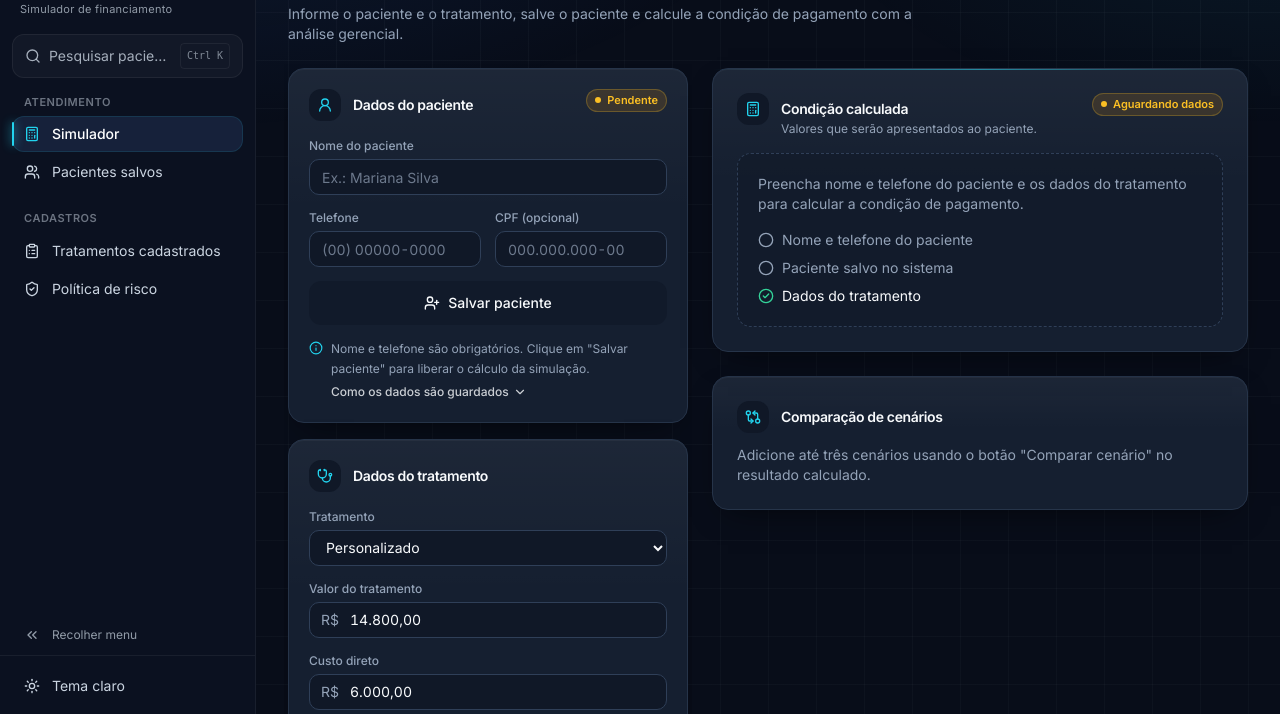
Test: cenário 11 — app sempre em modo gerencial › exibe informações gerenciais (custo direto, resultado, risco) sem precisar de alternância de visão
Check: the field labelled "Custo direto" is shown, box 309,674 -> 667,710
Type "Mariana Silva" into the field labelled "Nome do paciente" at coordinates (488, 177), box 309,159 -> 667,195
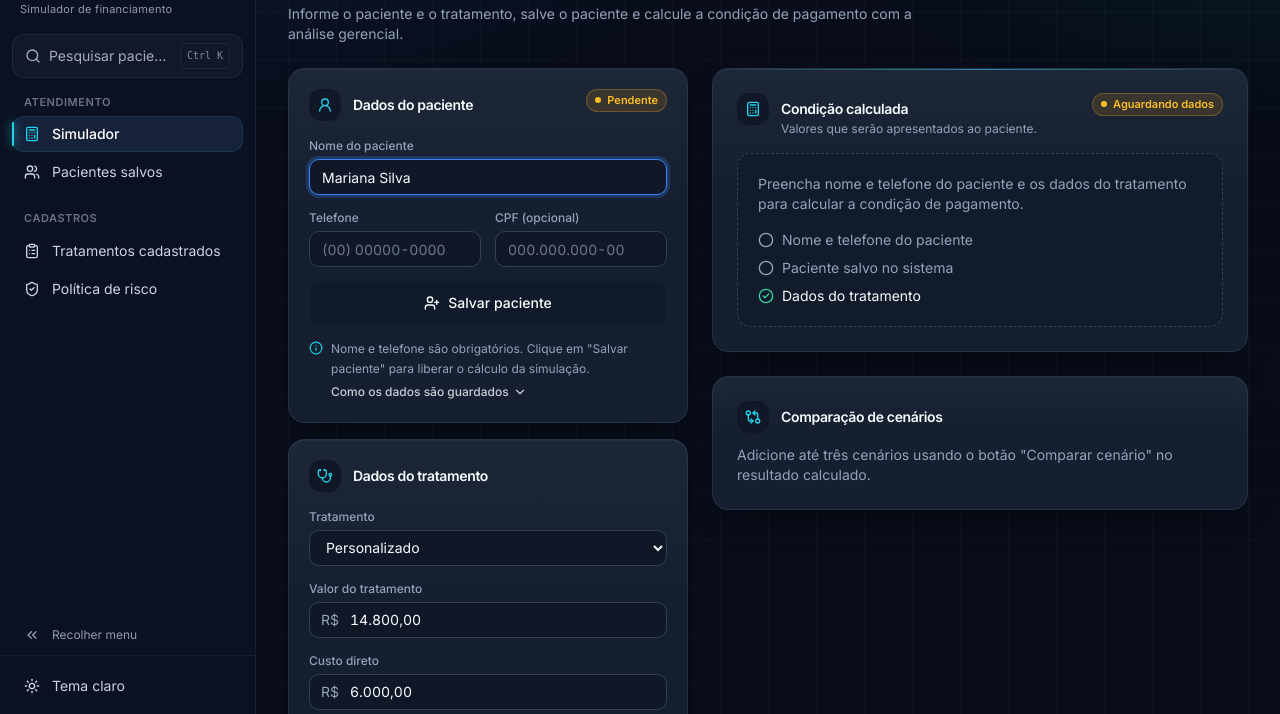
Type "11987654321" into the field labelled "Telefone" at coordinates (395, 249), box 309,231 -> 481,267
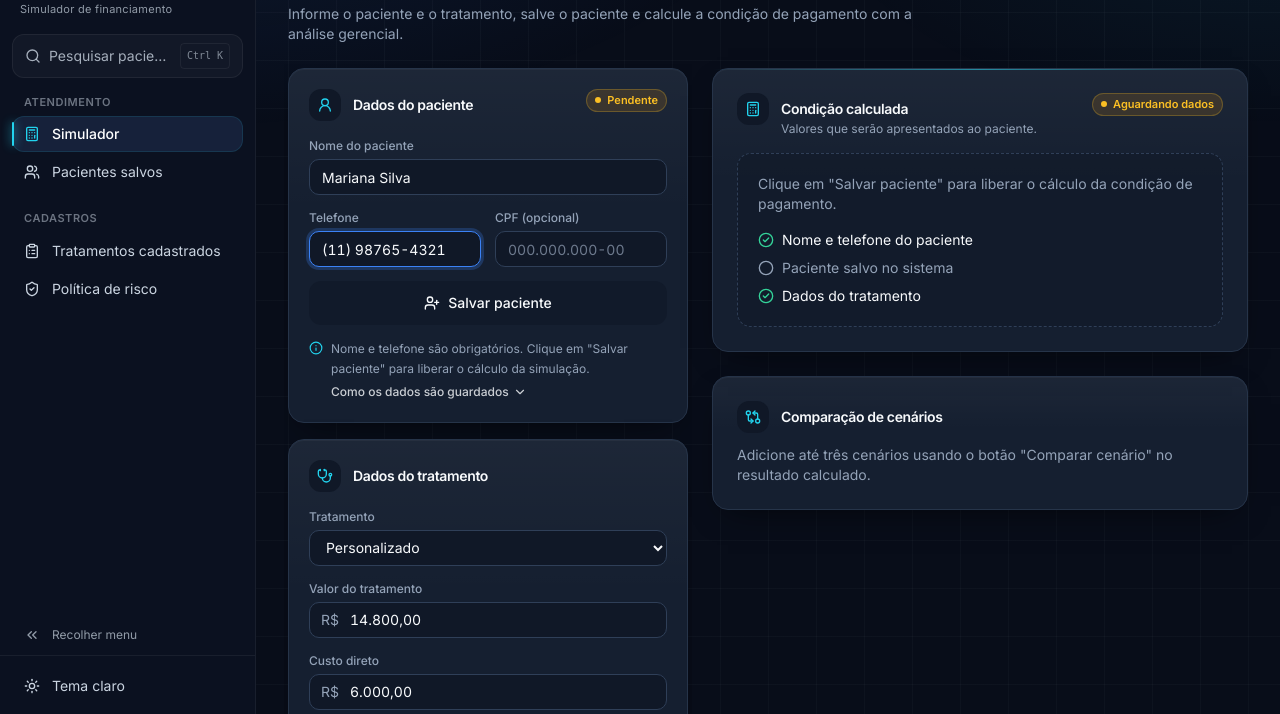
Type "12345678900" into the field labelled "CPF (opcional)" at coordinates (581, 249), box 495,231 -> 667,267
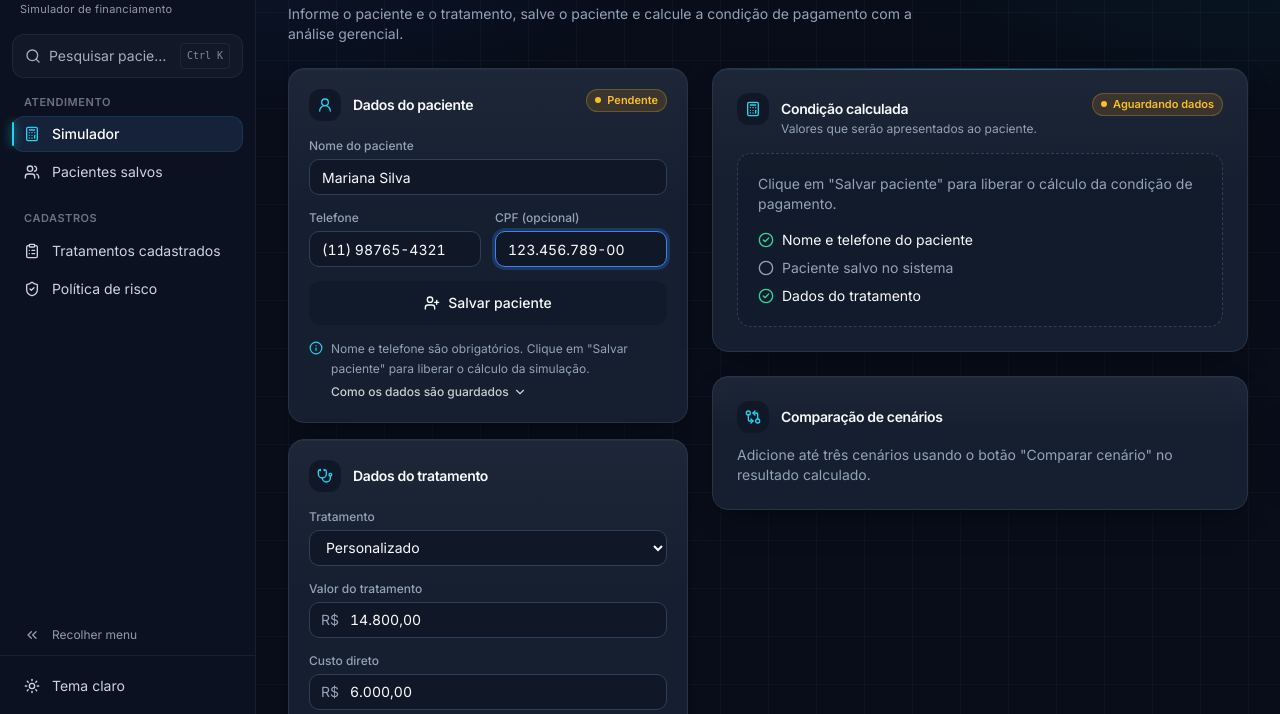
Click the button "Salvar paciente" at coordinates (488, 303), box 309,281 -> 667,325
(page scrolled)
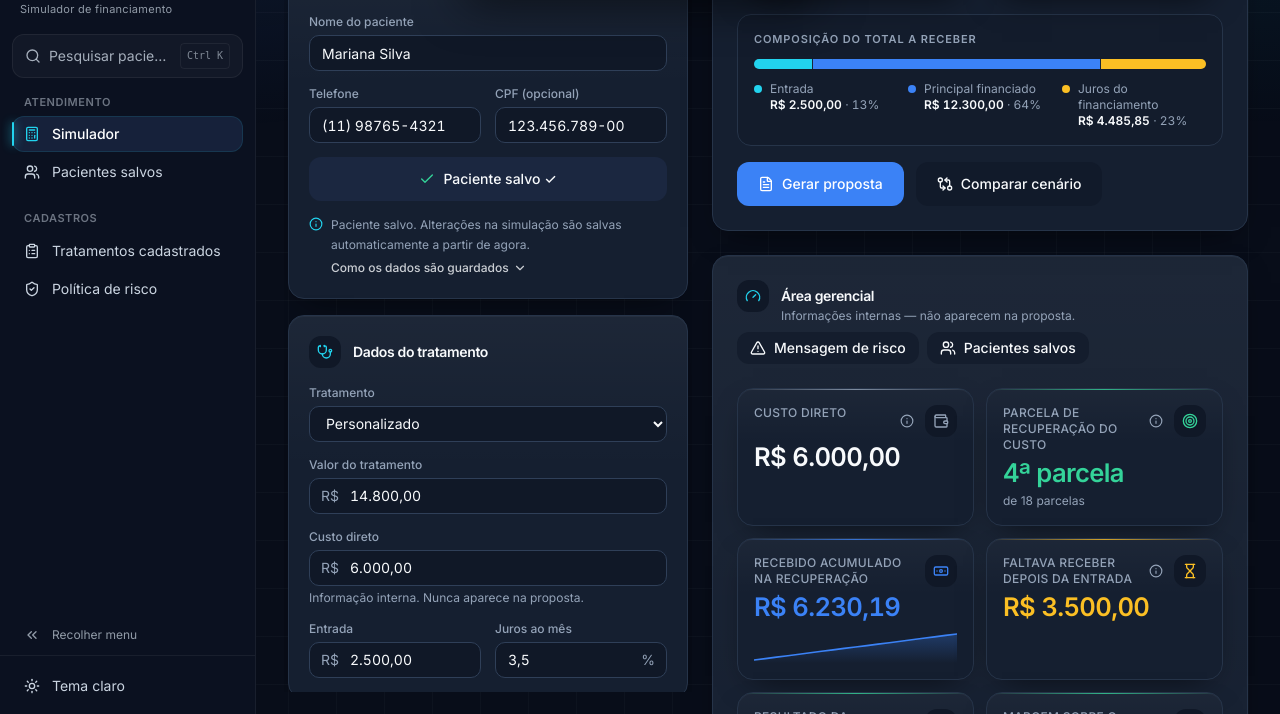
Check: the button "Paciente salvo ✓" is shown, box 309,157 -> 667,201
Check: the text "Informações internas — não aparecem na proposta." is shown, box 781,308 -> 1075,324
